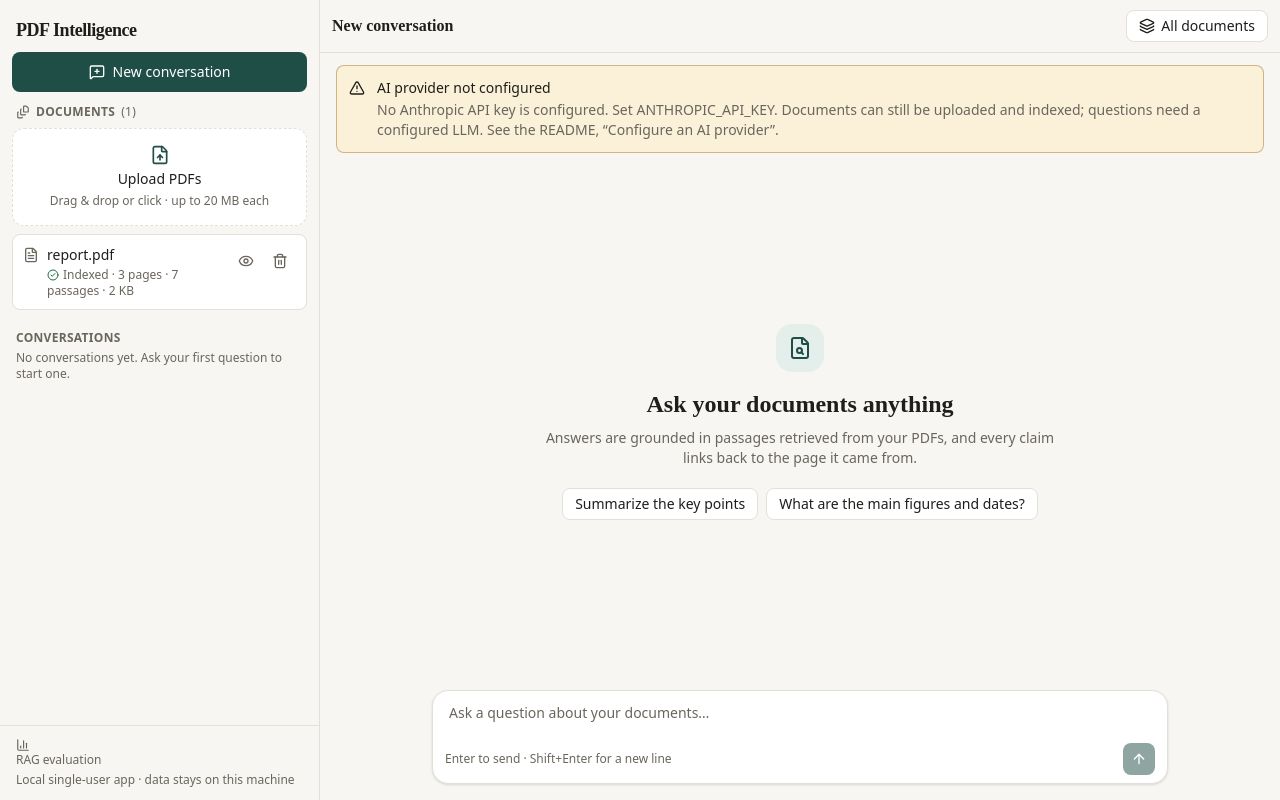
Workspace › shows provider configuration problems as actionable messages, with no retry button
Expected: the text "AI provider not configured" is shown, left=377, top=78, right=551, bottom=97
Expected: the text "Indexed · 3 pages · 7 passages · 2 KB" is shown, left=47, top=266, right=178, bottom=299
Step 1. Type "Hello?" into the text box labelled "Ask a question about your documents" → [800, 717], box left=433, top=691, right=1167, bottom=743
Then press Enter
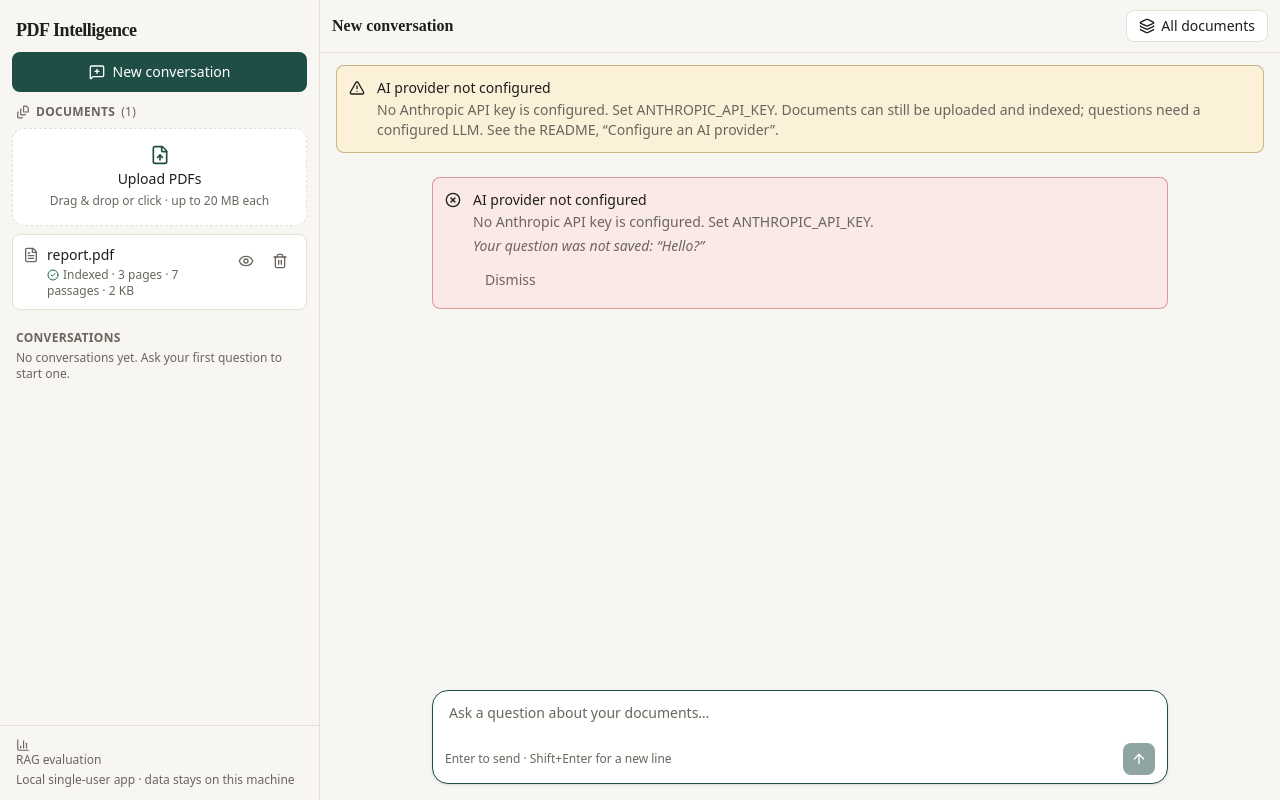
Result: the 2nd message shows "ANTHROPIC_API_KEY" at left=473, top=212, right=874, bottom=231
